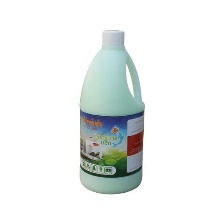cleaning_solution: (77, 27, 145, 195)
